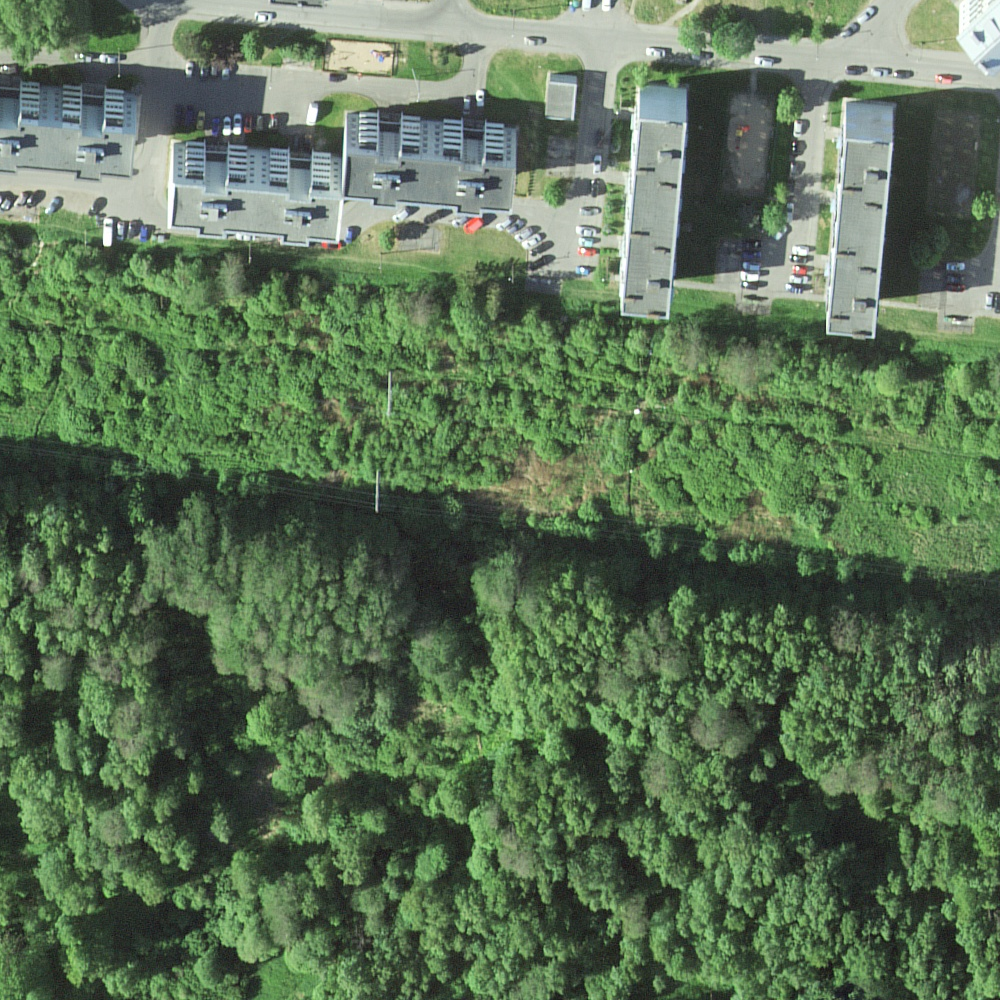building: (620, 119, 687, 321), (826, 140, 892, 340), (167, 184, 343, 249), (342, 153, 517, 217), (1, 123, 137, 185), (955, 1, 1000, 82), (546, 84, 578, 118)
